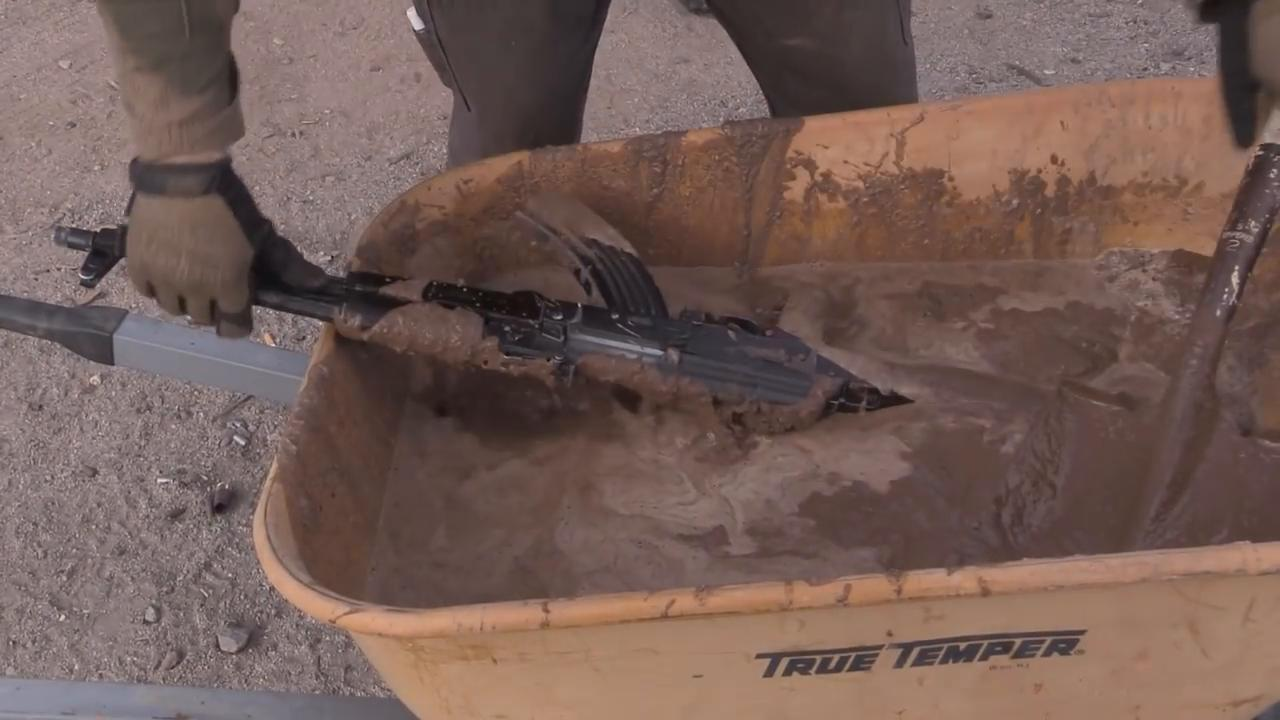AK47 Rifle: (51, 190, 899, 409)
